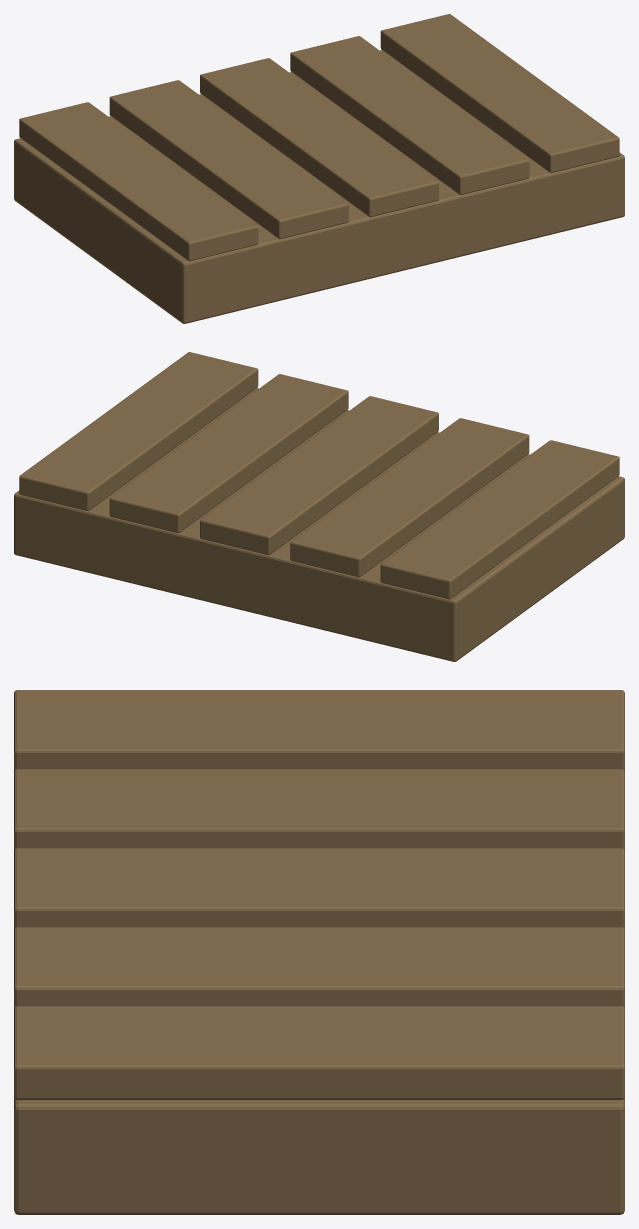
Rendered from empty_pallet.glb.
The picture shows the model from 3 angles, top to bottom: view 1: azimuth 30°, elevation 25°; view 2: azimuth 150°, elevation 25°; view 3: azimuth 270°, elevation 25°; orthographic projection. The views are drawn at different scales.
Visible parts, largest first — view 1: empty_pallet; view 2: empty_pallet; view 3: empty_pallet.
Part boxes in pixels (box(x1,y1,x2,y2)): empty_pallet: box(14, 14, 624, 323); empty_pallet: box(14, 352, 624, 661); empty_pallet: box(14, 690, 624, 1214).
Size of the model in its own units: 1.2 by 0.21 by 0.8.
